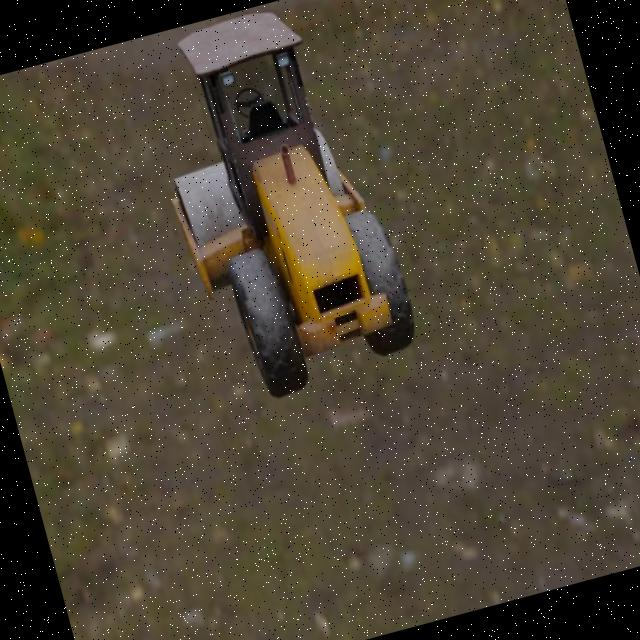Roller: (129, 0, 425, 411)
